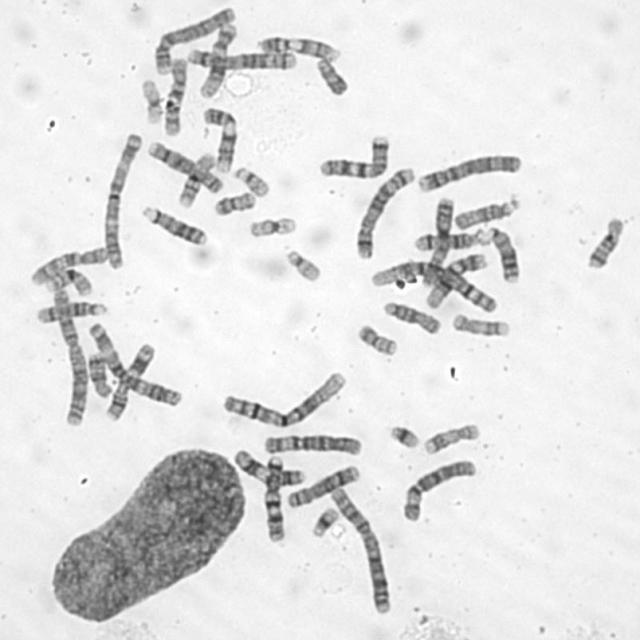A1: (365, 253, 501, 314), (218, 366, 349, 429)
A2: (327, 481, 396, 616), (46, 284, 90, 427)
A3: (83, 317, 185, 408), (100, 127, 144, 270)
B4: (151, 2, 239, 77), (413, 149, 524, 194)
B5: (350, 162, 418, 260), (182, 44, 300, 72)
C10: (27, 241, 111, 287), (160, 53, 190, 138)
C11: (100, 338, 156, 422), (230, 444, 307, 488)
C12: (424, 248, 489, 310), (194, 19, 240, 99)
C6: (399, 454, 479, 524), (258, 428, 365, 458)
C7: (314, 129, 393, 181), (260, 451, 288, 544)
C8: (144, 136, 225, 195), (283, 460, 362, 510)
C9: (198, 102, 240, 175), (252, 29, 342, 62)
D13: (137, 200, 210, 247), (483, 220, 522, 284)
D14: (409, 225, 492, 252), (32, 296, 108, 325)
D15: (451, 192, 523, 232), (379, 297, 444, 336)
E16: (174, 148, 218, 209), (41, 263, 95, 297)
E17: (419, 418, 482, 456), (448, 309, 512, 338)
E18: (583, 212, 627, 271), (84, 348, 115, 399)
F19: (244, 212, 300, 240), (137, 73, 165, 125)
F20: (353, 318, 400, 357), (210, 187, 258, 217)
G21: (307, 502, 341, 538), (385, 420, 422, 449)
G22: (282, 244, 324, 283), (230, 162, 272, 198)
X: (418, 192, 458, 290)
Y: (312, 53, 350, 97)
